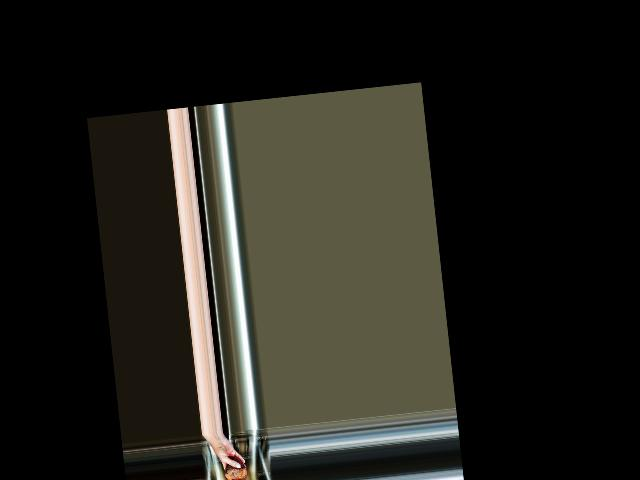beet: (223, 455, 249, 480)
